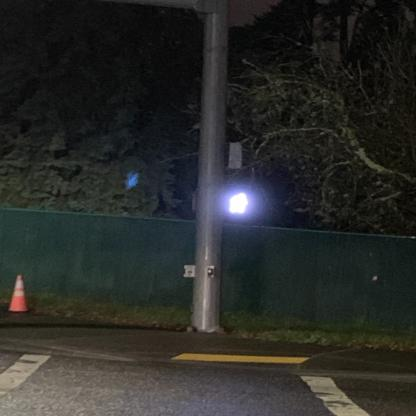Walk: (226, 193, 254, 214)
